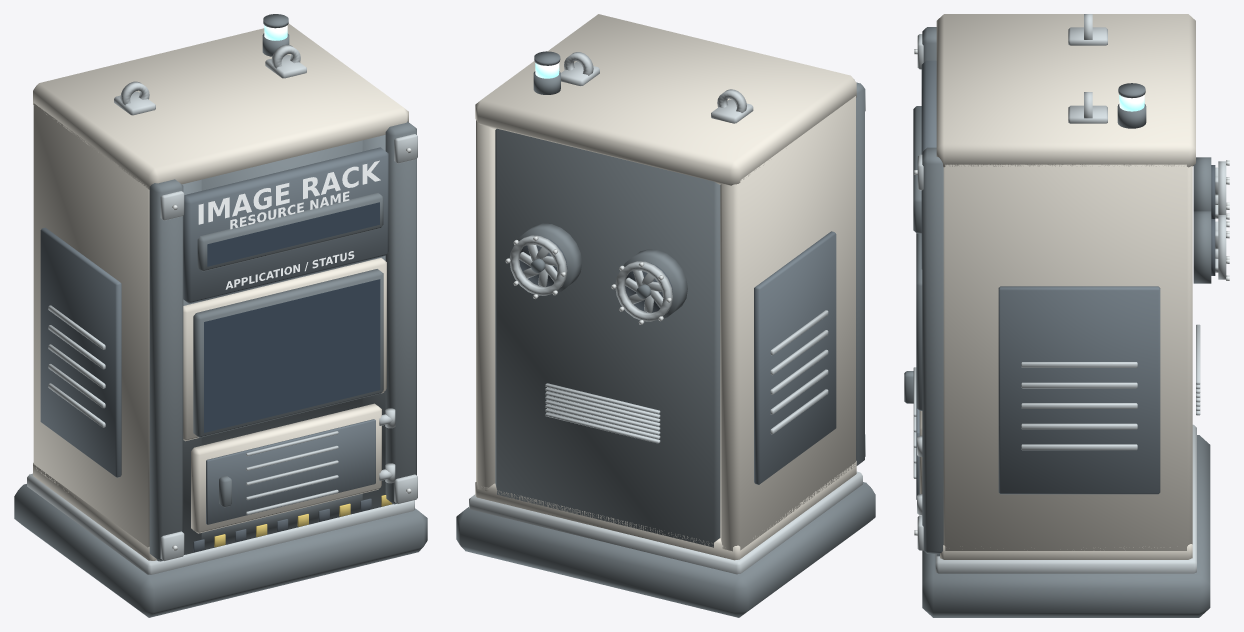
File: image_rack_standard.glb
The picture shows the model from 3 angles, left to right: view 1: azimuth 30°, elevation 25°; view 2: azimuth 150°, elevation 25°; view 3: azimuth 270°, elevation 25°; orthographic projection. The views are drawn at different scales.
Visible parts, largest first — view 1: Roof_cream, SideWall_cream, CornerPost_frame, LiveViewSurface_glass, Skid_frame, SideServicePanel_graphite, FrontHeader_graphite, DoorMoving_Inset_graphite, DoorMoving_Panel_cream, SkidDeck_steel, LiveViewSurfaceFrame_frame, ScreenSupport_cream (+16 smaller); view 2: BackWall_frame, SideWall_cream, Roof_cream, Skid_frame, SideServicePanel_graphite, SkidDeck_steel, RearFan_steel, KickPlate_cream, RearVent_steel, CornerPost_frame, RearFan_frame, SideLouver_steel (+3 smaller); view 3: SideWall_cream, Roof_cream, SideServicePanel_graphite, Skid_frame, CornerPost_frame, SkidDeck_steel, SideLouver_steel, RearFan_frame, KickPlate_cream, FrontHeader_graphite, RearFan_steel, LiftMount_steel (+7 smaller).
Boxes of the visible parts, x1,y1,x2,y2 form: Roof_cream: (33,23,408,189); SideWall_cream: (33,103,149,547); CornerPost_frame: (149,121,416,561); LiveViewSurface_glass: (204,279,380,432); Skid_frame: (14,484,427,617); SideServicePanel_graphite: (40,227,121,477); FrontHeader_graphite: (183,147,388,303); DoorMoving_Inset_graphite: (206,419,375,524); DoorMoving_Panel_cream: (191,403,381,533); SkidDeck_steel: (27,473,414,574); LiveViewSurfaceFrame_frame: (193,269,383,437); ScreenSupport_cream: (183,258,386,441); BackWall_frame: (495,128,720,547); SideWall_cream: (476,96,855,551); Roof_cream: (475,14,856,185); Skid_frame: (456,482,875,617); SideServicePanel_graphite: (754,231,836,484); SkidDeck_steel: (469,471,862,574); RearFan_steel: (509,235,672,321); KickPlate_cream: (475,461,856,560); RearVent_steel: (545,383,660,443); CornerPost_frame: (856,82,864,465); RearFan_frame: (518,223,687,319); SideLouver_steel: (770,310,828,434); SideWall_cream: (943,164,1192,550); Roof_cream: (936,14,1195,167); SideServicePanel_graphite: (998,286,1160,494); Skid_frame: (922,435,1210,617); CornerPost_frame: (922,27,943,553); SkidDeck_steel: (935,424,1196,573); SideLouver_steel: (1021,362,1137,450); RearFan_frame: (1193,157,1211,283); KickPlate_cream: (940,544,1192,559); FrontHeader_graphite: (921,60,936,269); RearFan_steel: (1215,161,1226,279); LiftMount_steel: (1068,27,1107,123).
Bounding box in the file's own units: 1.6 × 2.53 × 1.48.
